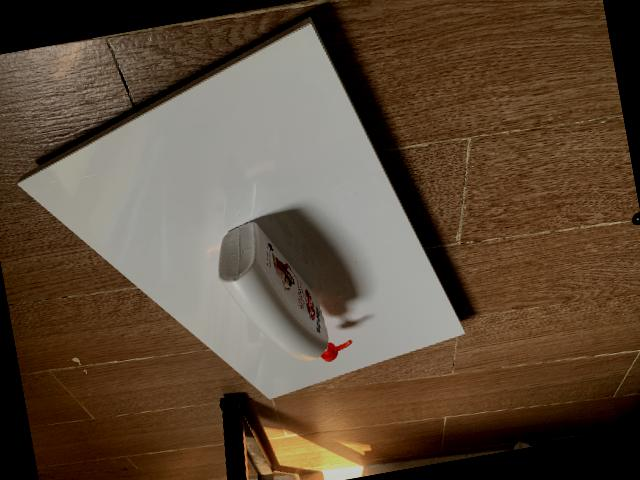life-buoy: (216, 220, 350, 360)
